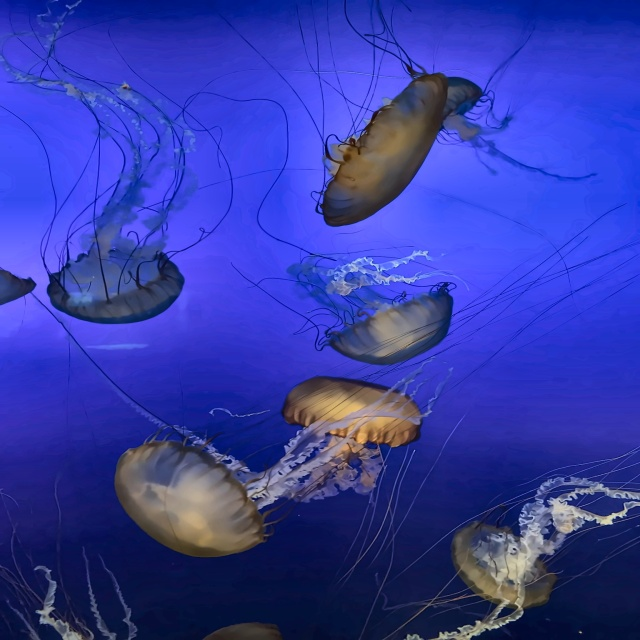jellyfish: (321, 71, 448, 226), (115, 438, 268, 559), (46, 245, 185, 322), (282, 375, 420, 446), (448, 519, 556, 609), (325, 291, 455, 364), (405, 73, 490, 122), (0, 269, 34, 305)
